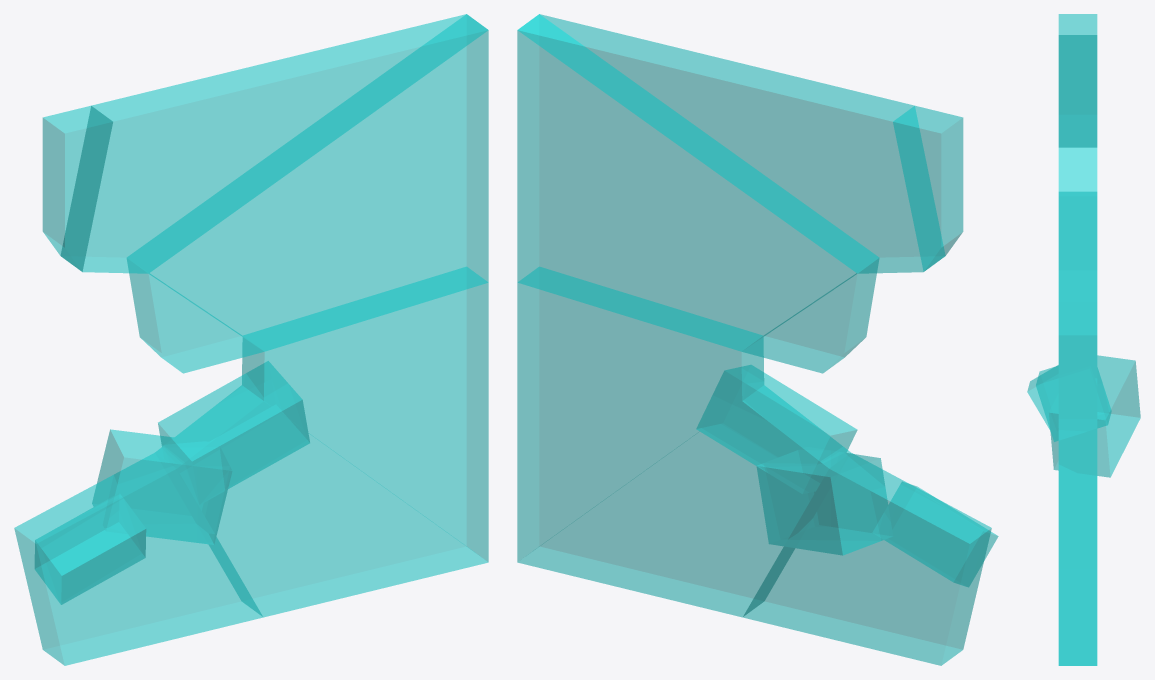
Rendered from SM_Bld_Wall_L_Damaged_07_Collision_01.fbx.
3 renders of one model, left to right at view 1: azimuth 30°, elevation 25°; view 2: azimuth 150°, elevation 25°; view 3: azimuth 270°, elevation 25°, orthographic. The views are drawn at different scales.
Parts seen in each view (by area): view 1: SM_Bld_Wall_L_Damaged_07_Collision_01; view 2: SM_Bld_Wall_L_Damaged_07_Collision_01; view 3: SM_Bld_Wall_L_Damaged_07_Collision_01.
Part boxes in pixels (x1=…): SM_Bld_Wall_L_Damaged_07_Collision_01: x1=14, y1=14, x2=488, y2=665; SM_Bld_Wall_L_Damaged_07_Collision_01: x1=517, y1=14, x2=998, y2=665; SM_Bld_Wall_L_Damaged_07_Collision_01: x1=1027, y1=14, x2=1140, y2=665.
Bounding box in the file's own units: 534 × 600 × 132.
